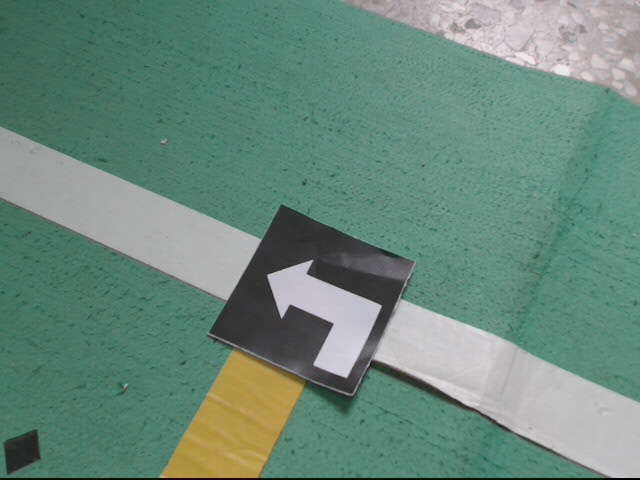left: (208, 205, 416, 397)
